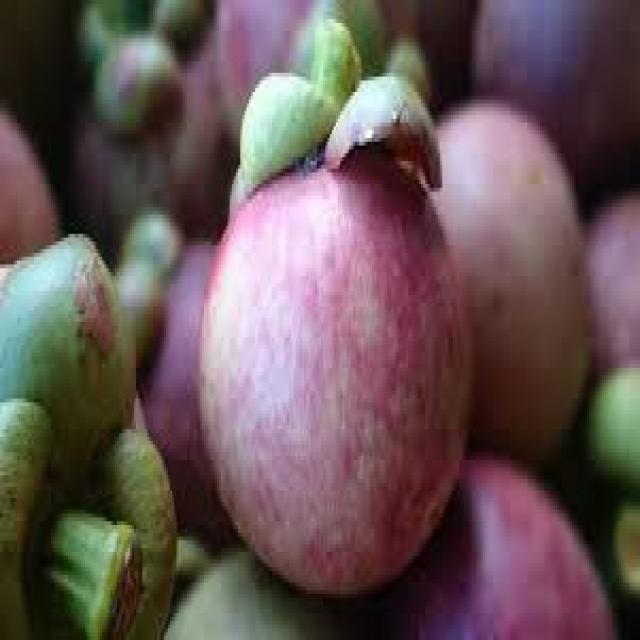organic waste: (192, 11, 464, 598), (0, 226, 172, 636), (429, 100, 589, 475), (374, 452, 617, 636), (56, 0, 226, 238), (466, 0, 638, 172), (200, 0, 436, 123), (147, 544, 389, 636), (587, 184, 638, 582), (0, 96, 64, 264)
